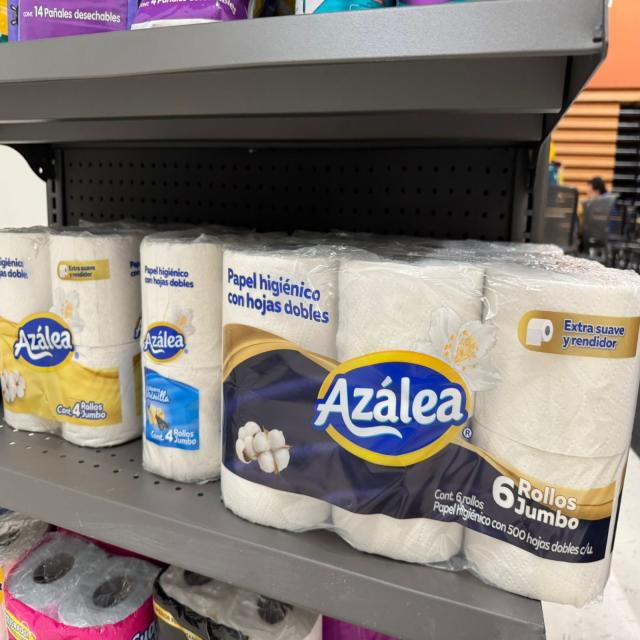Higienico Cottonelle Elegance XL 252h: (156, 564, 331, 640)
Higienico Suavel 325h 4rollos: (11, 527, 157, 634)
PAPEL HIGIENICO AZALEA 4 ROLLOS 350 HOJAS: (0, 224, 143, 451)
PAPEL HIGIENICO AZALEA 4S CON AROMA: (142, 235, 218, 485)
Papel Higienico Azalea 6 Rollos 500 Hojas: (220, 233, 640, 582)
